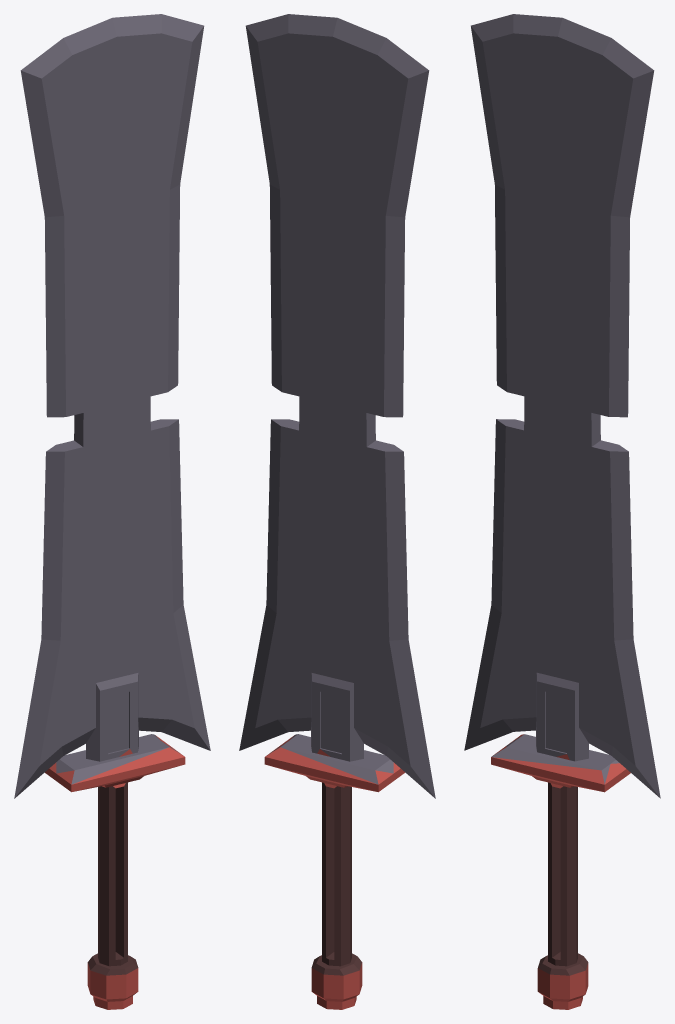
The picture shows the model from 3 angles, left to right: view 1: azimuth 30°, elevation 25°; view 2: azimuth 150°, elevation 25°; view 3: azimuth 330°, elevation 25°; orthographic projection.
Size of the model in its own units: 0.2091 by 1 by 0.0563.
